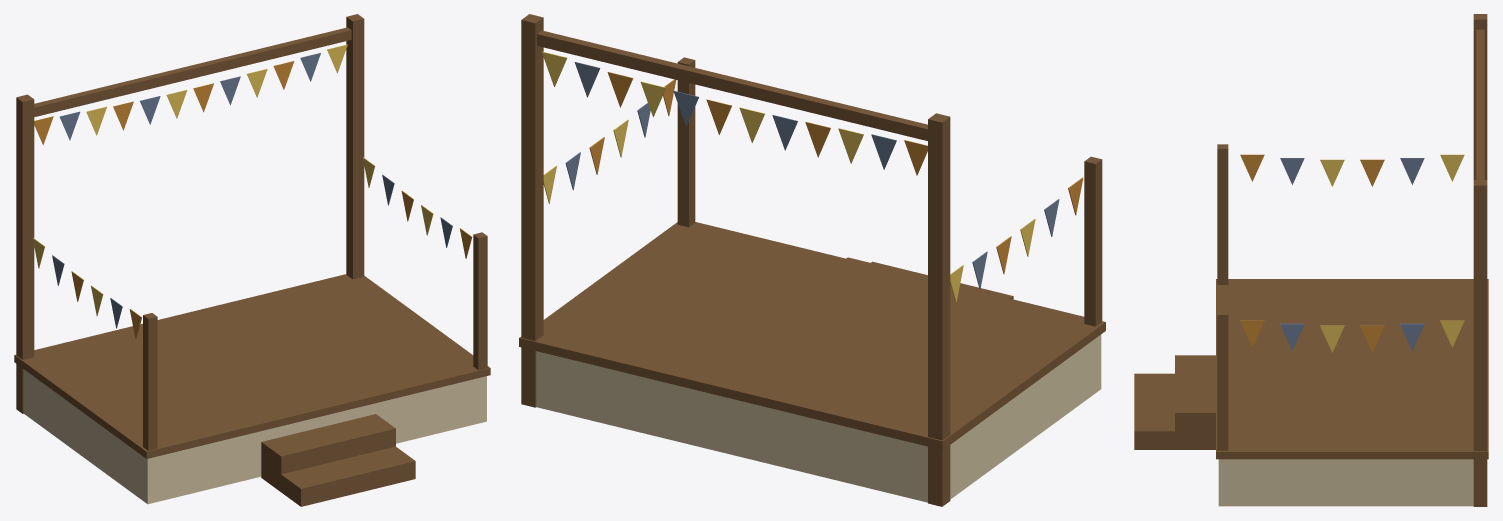
The model's file is Prop_YTM_GreenStage_LOD1.glb.
3 views of the same model, side by side, from view 1: azimuth 30°, elevation 25°; view 2: azimuth 150°, elevation 25°; view 3: azimuth 270°, elevation 25° (orthographic). The views are drawn at different scales.
Visible parts, largest first — view 1: Prop_YTM_GreenStage, Prop_YTM_GreenStage_Bunting; view 2: Prop_YTM_GreenStage, Prop_YTM_GreenStage_Bunting; view 3: Prop_YTM_GreenStage, Prop_YTM_GreenStage_Bunting.
Boxes of the visible parts, left/top/right/bottom form: Prop_YTM_GreenStage: left=14, top=14, right=490, bottom=506; Prop_YTM_GreenStage_Bunting: left=32, top=44, right=472, bottom=339; Prop_YTM_GreenStage: left=519, top=14, right=1105, bottom=506; Prop_YTM_GreenStage_Bunting: left=541, top=51, right=1083, bottom=302; Prop_YTM_GreenStage: left=1134, top=14, right=1488, bottom=506; Prop_YTM_GreenStage_Bunting: left=1240, top=154, right=1464, bottom=352.
Bounding box in the file's own units: 3 × 2.6 × 2.6.
